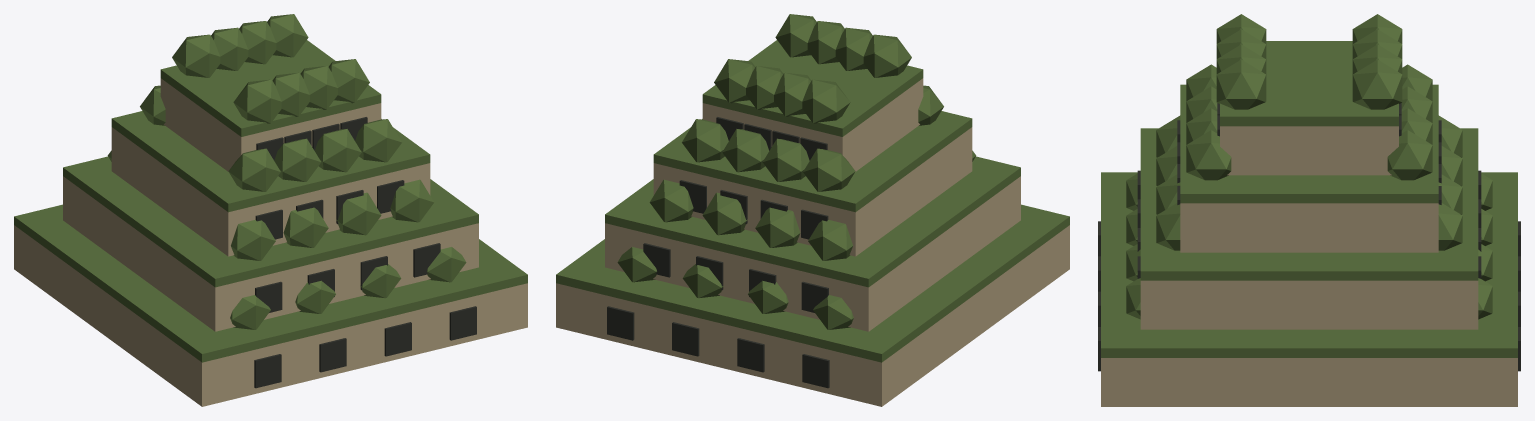
Rendered from custom-wonder-bahce.glb.
The picture shows the model from 3 angles, left to right: view 1: azimuth 30°, elevation 25°; view 2: azimuth 150°, elevation 25°; view 3: azimuth 270°, elevation 25°; orthographic projection. The views are drawn at different scales.
Visible parts, largest first — view 1: custom-wonder-bahce; view 2: custom-wonder-bahce; view 3: custom-wonder-bahce.
Boxes of the visible parts, x1,y1,x2,y2 form: custom-wonder-bahce: [14, 14, 527, 406]; custom-wonder-bahce: [556, 14, 1069, 406]; custom-wonder-bahce: [1098, 14, 1520, 406].
Bounding box in the file's own units: 0.9862 × 0.7195 × 1.
